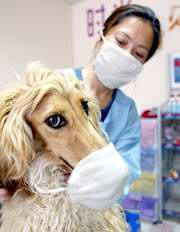face_mask: (101, 15, 151, 88)
